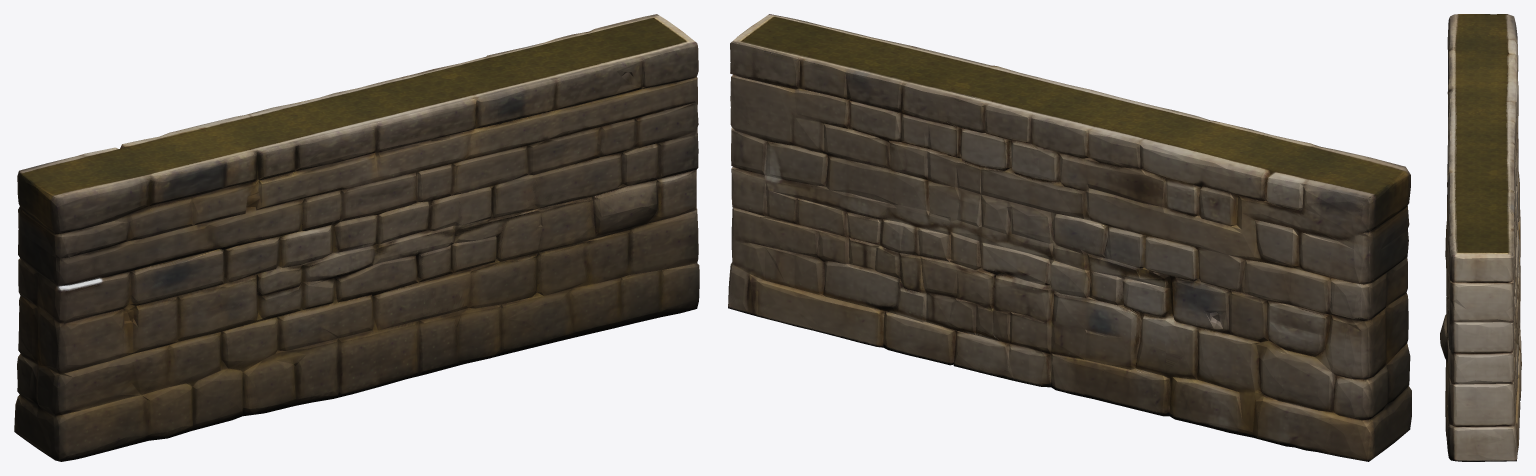
3 renders of one model, left to right at view 1: azimuth 30°, elevation 25°; view 2: azimuth 150°, elevation 25°; view 3: azimuth 270°, elevation 25°, orthographic. The views are drawn at different scales.
Parts seen in each view (by area): view 1: world; view 2: world; view 3: world.
Boxes of the visible parts, x1,y1,x2,y2 form: world: (14, 14, 699, 461); world: (728, 14, 1411, 461); world: (1440, 14, 1521, 461).
Bounding box in the file's own units: 0.9959 × 0.3937 × 0.1413.
1 material, 1 textured.
